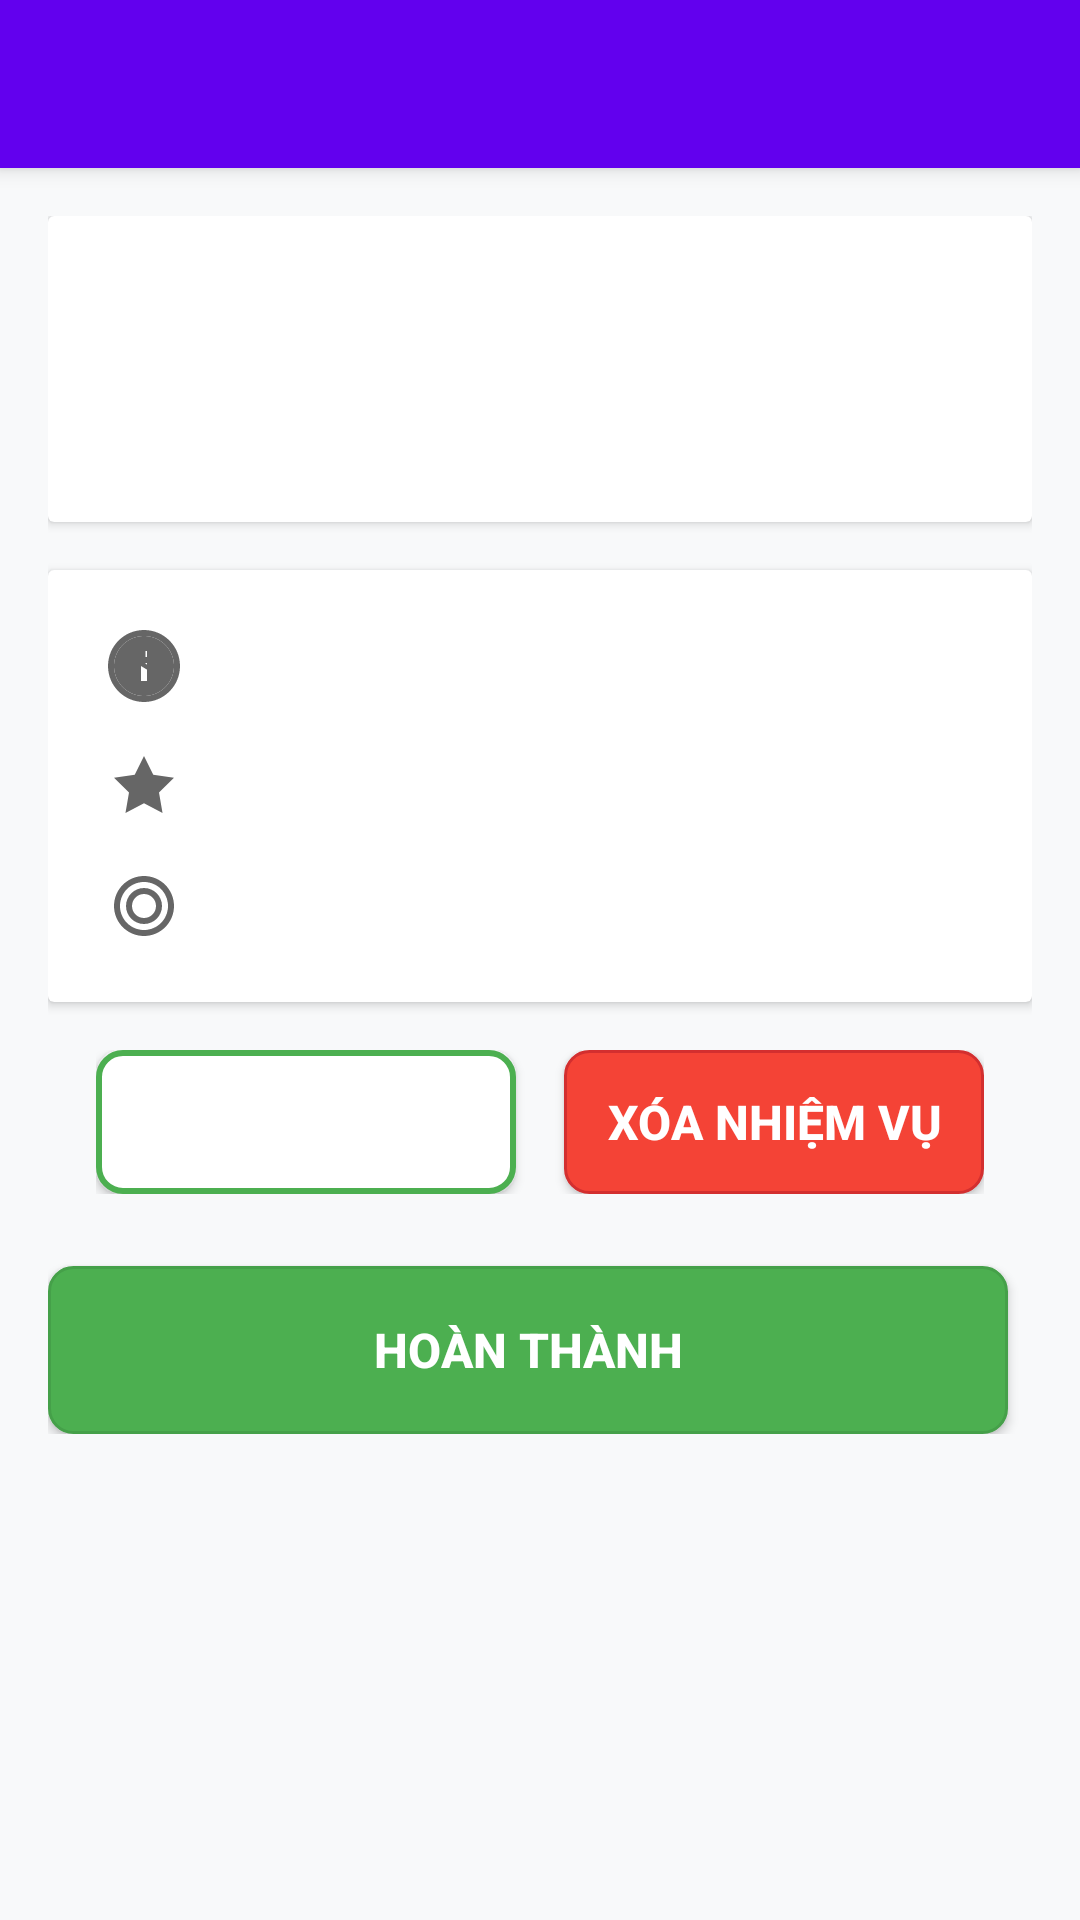

Icon bounding boxes for this 1080x1920 phone screenshot, format region(x1, y1, x2, y2):
priority: region(114, 756, 174, 813)
status: region(114, 876, 174, 936)
